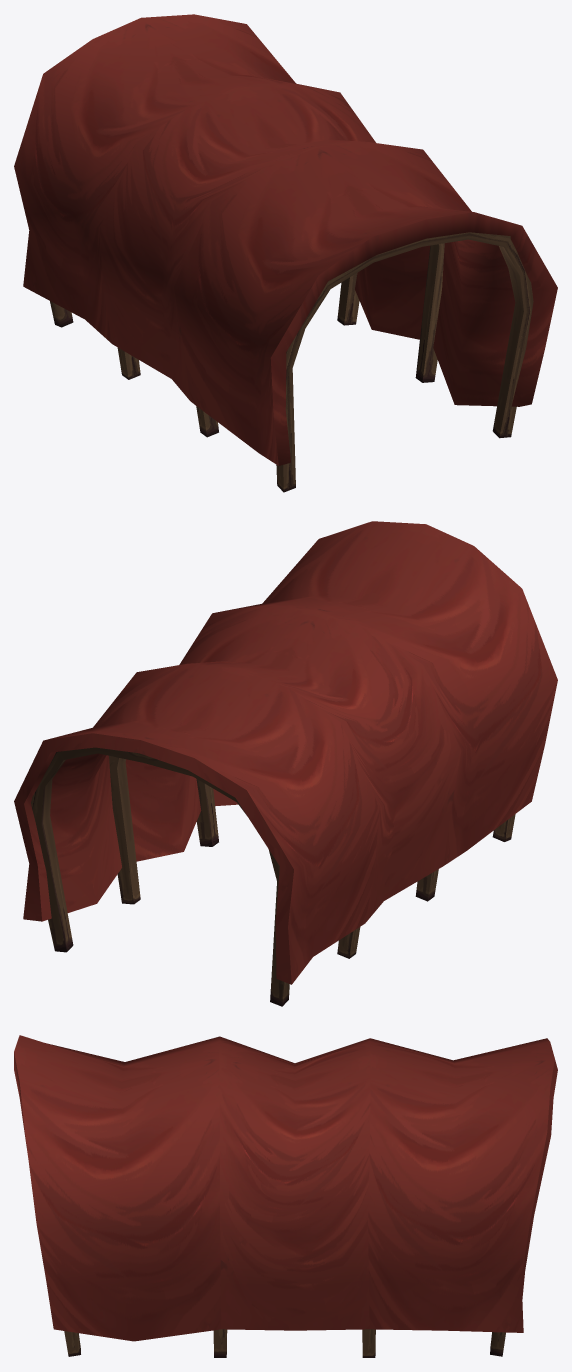
The model's file is SM_PROP_cart_top_battle_01.fbx.
3 views of the same model, one above another, from view 1: azimuth 30°, elevation 25°; view 2: azimuth 150°, elevation 25°; view 3: azimuth 270°, elevation 25° (orthographic). The views are drawn at different scales.
Visible parts, largest first — view 1: SM_PROP_cart_top_battle_01; view 2: SM_PROP_cart_top_battle_01; view 3: SM_PROP_cart_top_battle_01.
Part boxes in pixels (x1,y1,x2,y2): SM_PROP_cart_top_battle_01: (14,14,557,492); SM_PROP_cart_top_battle_01: (14,521,557,1006); SM_PROP_cart_top_battle_01: (14,1035,557,1357).
Size of the model in its own units: 201 by 179 by 348.
